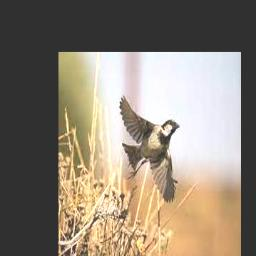Sparrow: (119, 95, 180, 202)
